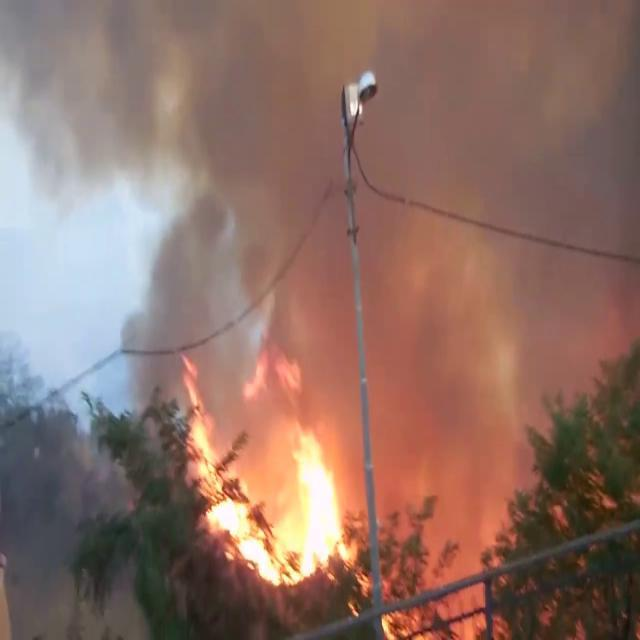Fire: (175, 374, 360, 596)
Smoke: (11, 1, 638, 440)
